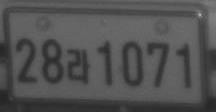0: (121, 41, 144, 86)
1: (174, 43, 197, 88), (96, 41, 118, 85)
2: (16, 37, 37, 83)
7: (146, 42, 170, 88)
8: (41, 38, 64, 83)
라: (66, 48, 91, 84)
